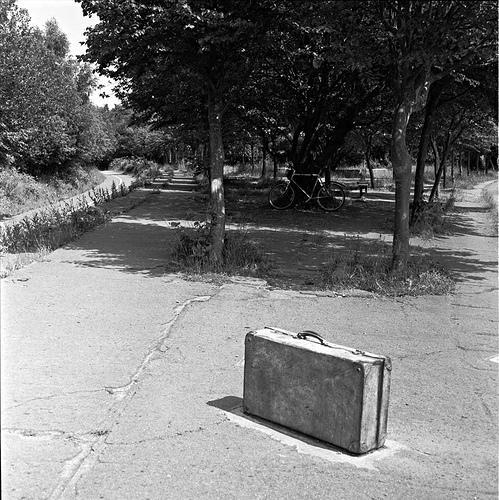bicycle: (266, 164, 350, 216)
